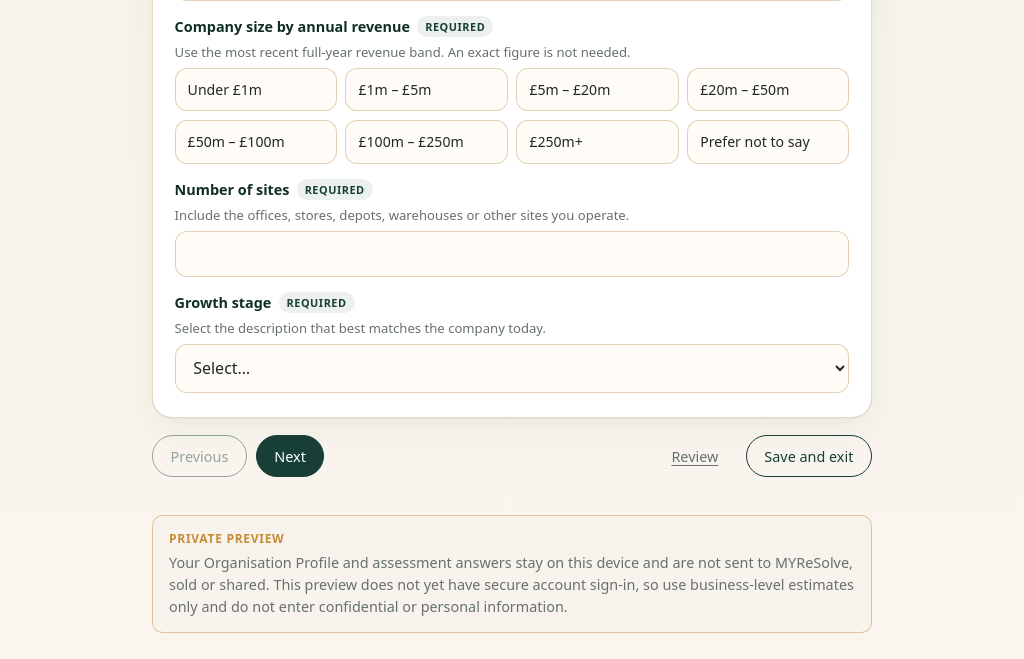
Test: OrganisationProfileApp › supports previous/next navigation and review
(page scrolled)
Check: the button with test id "profile-previous" is disabled, box [152,435,247,477]
Click the button with test id "profile-next" at (290, 456), box [256,435,324,477]
(page scrolled)
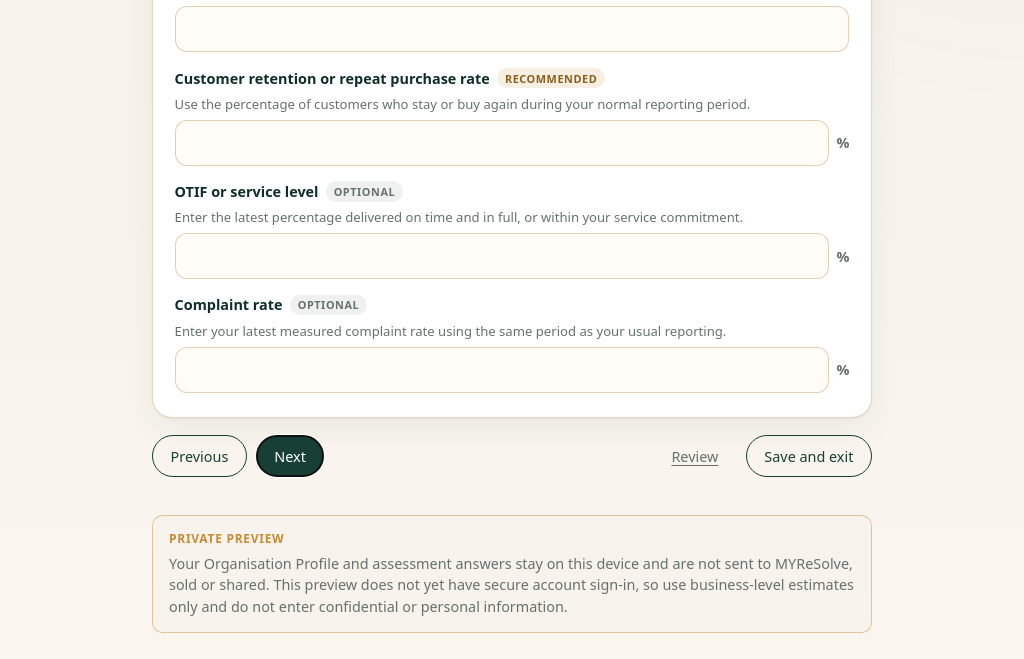
Click the button with test id "profile-previous" at (199, 456), box [152,436,247,477]
(page scrolled)
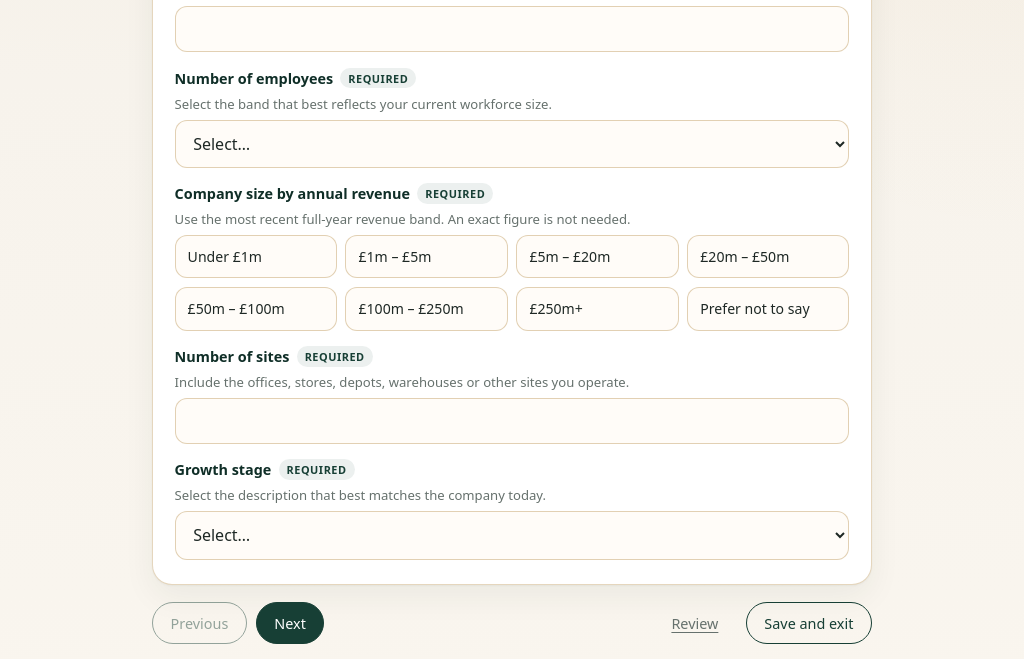
Click the button with test id "profile-open-review" at (695, 623), box [653,602,737,644]
(page scrolled)
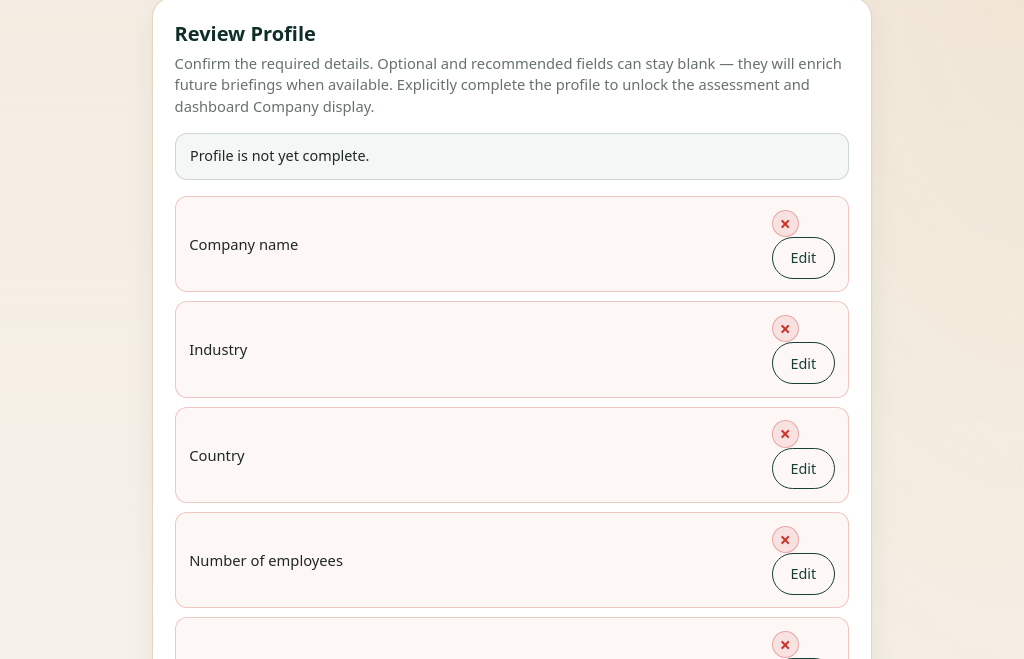
Check: the text "Profile is not yet complete." is shown, box [175,133,849,180]
